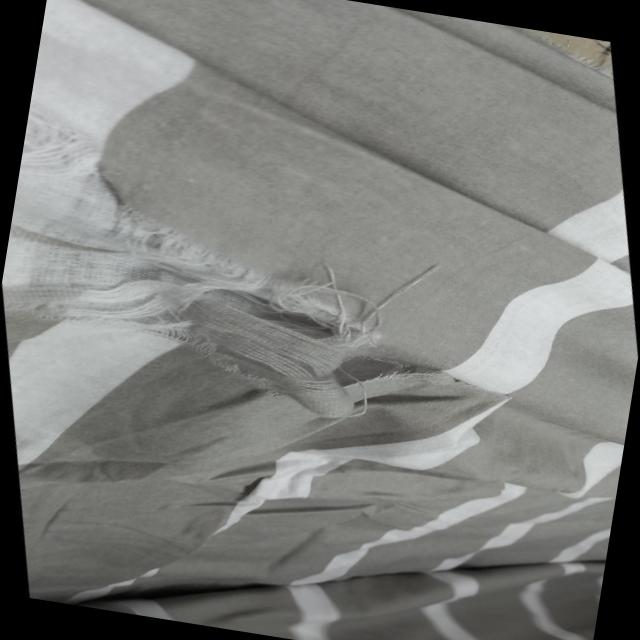cut: (0, 87, 496, 460)
